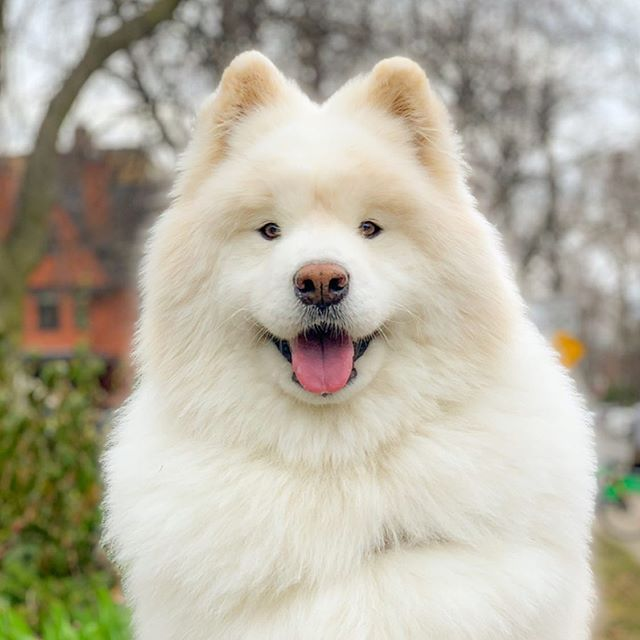animal: (101, 43, 605, 627)
